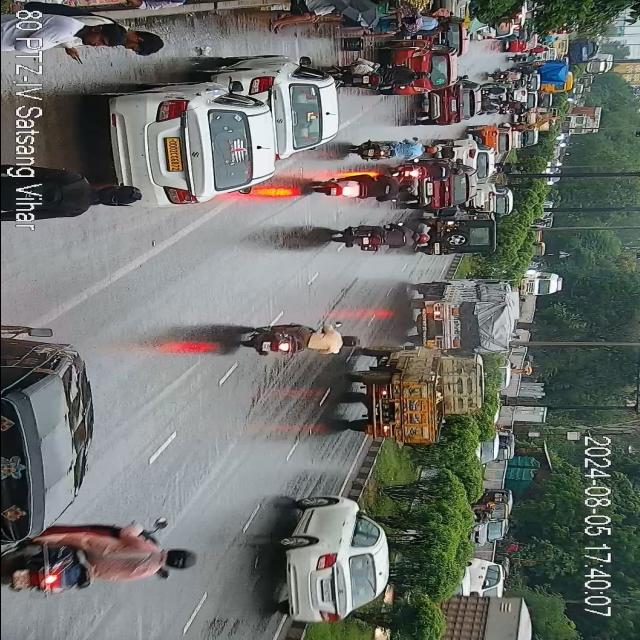2-wheelers: (56, 537, 188, 580), (238, 322, 354, 359), (332, 218, 420, 252), (352, 137, 437, 171), (350, 62, 428, 93), (312, 176, 402, 202), (391, 164, 448, 187), (518, 270, 562, 296), (480, 97, 530, 117), (496, 67, 534, 89), (510, 48, 552, 64), (504, 124, 536, 131)
auto: (1, 327, 92, 591), (469, 490, 514, 522)
car: (98, 68, 270, 208), (280, 498, 390, 626), (244, 62, 336, 156), (422, 210, 498, 260), (409, 165, 468, 215), (398, 46, 452, 96), (424, 84, 474, 130), (446, 139, 488, 181), (474, 182, 514, 209), (469, 125, 512, 148), (502, 36, 536, 52), (512, 130, 536, 148)
pedestrian: (36, 168, 140, 226), (30, 17, 114, 62), (270, 0, 344, 33), (118, 26, 166, 56), (402, 16, 452, 40)
truck: (347, 345, 481, 453), (406, 282, 512, 346), (428, 600, 541, 640), (558, 106, 600, 138), (578, 52, 610, 78)
